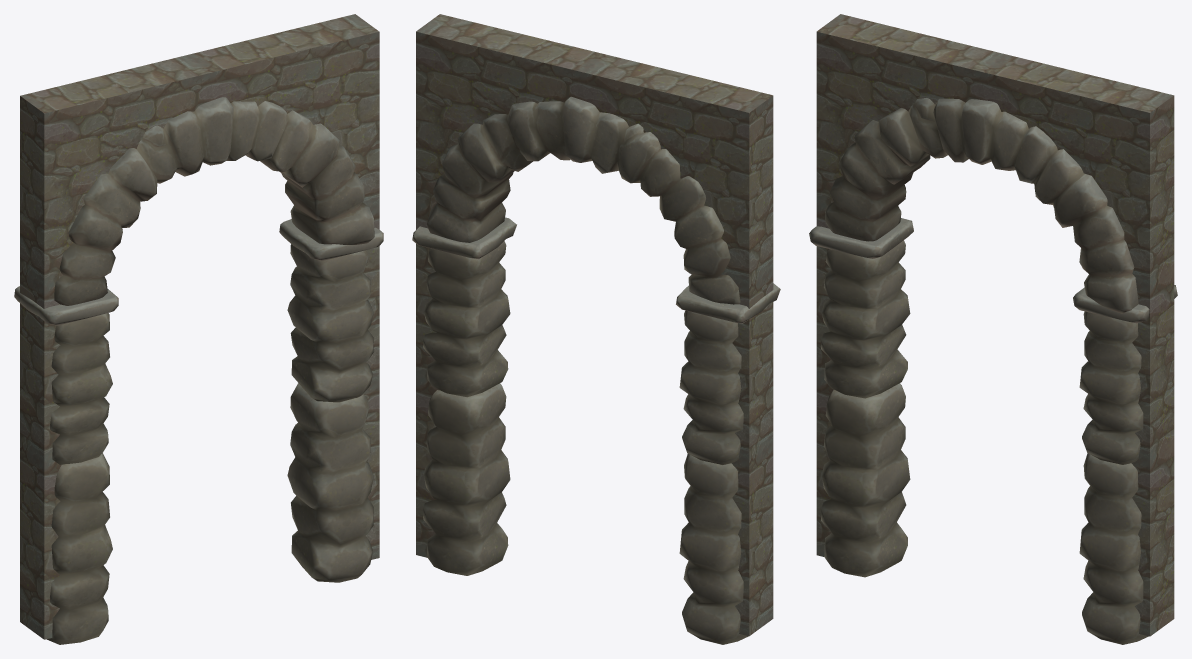
The model's file is SM_FW01_Ruins_Int_Doorway_A_4x6_01.fbx.
3 views of the same model, side by side, from view 1: azimuth 30°, elevation 25°; view 2: azimuth 150°, elevation 25°; view 3: azimuth 330°, elevation 25° (orthographic).
Parts seen in each view (by area): view 1: SM_FW01_Ruins_Int_Doorway_A_4x6_01_LOD0, SM_FW01_Ruins_Int_Doorway_A_4x6_01; view 2: SM_FW01_Ruins_Int_Doorway_A_4x6_01_LOD0, SM_FW01_Ruins_Int_Doorway_A_4x6_01; view 3: SM_FW01_Ruins_Int_Doorway_A_4x6_01_LOD0, SM_FW01_Ruins_Int_Doorway_A_4x6_01.
Boxes of the visible parts, x1,y1,x2,y2 form: SM_FW01_Ruins_Int_Doorway_A_4x6_01_LOD0: (14,97,383,644); SM_FW01_Ruins_Int_Doorway_A_4x6_01: (20,14,379,639); SM_FW01_Ruins_Int_Doorway_A_4x6_01_LOD0: (412,96,780,644); SM_FW01_Ruins_Int_Doorway_A_4x6_01: (416,14,773,636); SM_FW01_Ruins_Int_Doorway_A_4x6_01_LOD0: (809,98,1177,644); SM_FW01_Ruins_Int_Doorway_A_4x6_01: (816,14,1174,636).
Size of what is drawn, in the model's own units: 4.03 by 6.14 by 0.9026.
